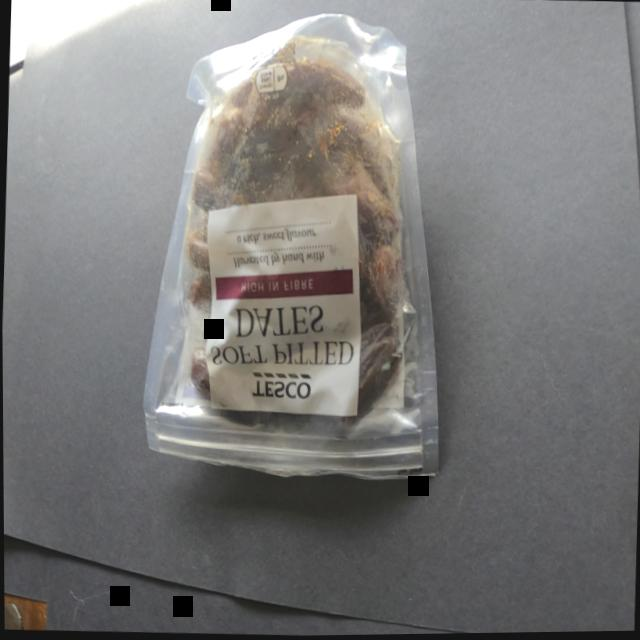Medjooldates: (114, 0, 468, 517)
